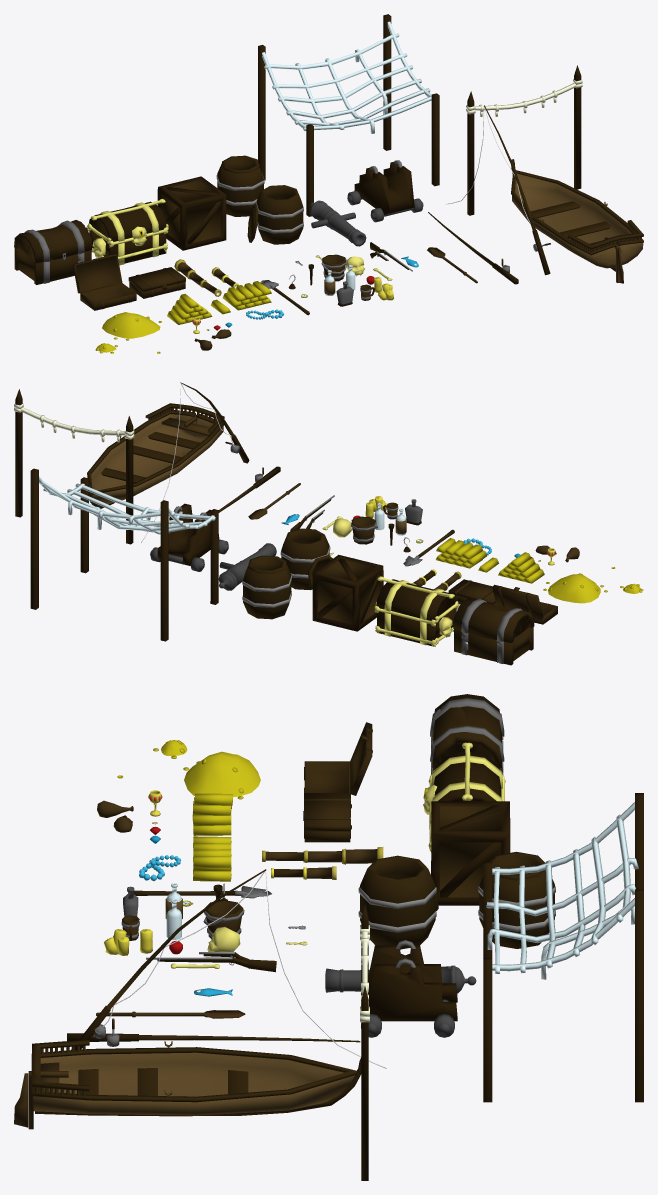
The picture shows the model from 3 angles, top to bottom: view 1: azimuth 30°, elevation 25°; view 2: azimuth 150°, elevation 25°; view 3: azimuth 270°, elevation 25°; orthographic projection. The views are drawn at different scales.
Visible parts, largest first — view 1: PIRATE_PACK-FishingStandNet, PIRATE_PACK-RowBoat, PIRATE_PACK-Create, PIRATE_PACK-Death_Chest-Closed, PIRATE_PACK-Chest-Closed, PIRATE_PACK-CannonStand, PIRATE_PACK-Barell_Open, PIRATE_PACK-FishingDry, PIRATE_PACK-SmallCreate-Open, PIRATE_PACK-Barell, PIRATE_PACK-SmallCreate-Closed, PIRATE_PACK-Cannon (+7 smaller); view 2: PIRATE_PACK-RowBoat, PIRATE_PACK-FishingStandNet, PIRATE_PACK-Create, PIRATE_PACK-Death_Chest-Closed, PIRATE_PACK-Chest-Closed, PIRATE_PACK-Barell, PIRATE_PACK-FishingDry, PIRATE_PACK-Barell_Open, PIRATE_PACK-CannonStand, PIRATE_PACK-SmallCreate-Open, PIRATE_PACK-CoinPile_Large, PIRATE_PACK-GoldBar_Wall (+6 smaller); view 3: PIRATE_PACK-RowBoat, PIRATE_PACK-FishingStandNet, PIRATE_PACK-Create, PIRATE_PACK-CannonStand, PIRATE_PACK-Barell_Open, PIRATE_PACK-Chest-Closed, PIRATE_PACK-Barell, PIRATE_PACK-Death_Chest-Closed, PIRATE_PACK-CoinPile_Large, PIRATE_PACK-SmallCreate-Open, PIRATE_PACK-SmallCreate-Closed, PIRATE_PACK-FishingDry (+11 smaller).
Part boxes in pixels (left/top/right/bottom): PIRATE_PACK-FishingStandNet: left=258, top=14, right=439, bottom=216; PIRATE_PACK-RowBoat: left=511, top=159, right=643, bottom=283; PIRATE_PACK-Create: left=157, top=176, right=226, bottom=250; PIRATE_PACK-Death_Chest-Closed: left=87, top=198, right=168, bottom=265; PIRATE_PACK-Chest-Closed: left=14, top=220, right=92, bottom=284; PIRATE_PACK-CannonStand: left=347, top=160, right=423, bottom=222; PIRATE_PACK-Barell_Open: left=247, top=185, right=303, bottom=244; PIRATE_PACK-FishingDry: left=466, top=65, right=582, bottom=215; PIRATE_PACK-SmallCreate-Open: left=73, top=254, right=136, bottom=310; PIRATE_PACK-Barell: left=216, top=155, right=264, bottom=216; PIRATE_PACK-SmallCreate-Closed: left=128, top=267, right=185, bottom=298; PIRATE_PACK-Cannon: left=310, top=200, right=366, bottom=246; PIRATE_PACK-RowBoat: left=87, top=403, right=224, bottom=508; PIRATE_PACK-FishingStandNet: left=30, top=468, right=218, bottom=641; PIRATE_PACK-Create: left=312, top=554, right=383, bottom=631; PIRATE_PACK-Death_Chest-Closed: left=374, top=576, right=458, bottom=646; PIRATE_PACK-Chest-Closed: left=453, top=598, right=534, bottom=665; PIRATE_PACK-Barell: left=242, top=555, right=291, bottom=619; PIRATE_PACK-FishingDry: left=14, top=389, right=134, bottom=544; PIRATE_PACK-Barell_Open: left=280, top=528, right=332, bottom=590; PIRATE_PACK-CannonStand: left=150, top=503, right=228, bottom=571; PIRATE_PACK-SmallCreate-Open: left=492, top=584, right=557, bottom=624; PIRATE_PACK-CoinPile_Large: left=543, top=573, right=607, bottom=603; PIRATE_PACK-GoldBar_Wall: left=435, top=538, right=486, bottom=568; PIRATE_PACK-RowBoat: left=14, top=1039, right=361, bottom=1129; PIRATE_PACK-FishingStandNet: left=483, top=793, right=643, bottom=1102; PIRATE_PACK-Create: left=431, top=801, right=510, bottom=905; PIRATE_PACK-CannonStand: left=361, top=940, right=457, bottom=1037; PIRATE_PACK-Barell_Open: left=358, top=855, right=438, bottom=949; PIRATE_PACK-Chest-Closed: left=430, top=694, right=504, bottom=774; PIRATE_PACK-Barell: left=478, top=851, right=555, bottom=948; PIRATE_PACK-Death_Chest-Closed: left=423, top=742, right=505, bottom=852; PIRATE_PACK-CoinPile_Large: left=183, top=751, right=260, bottom=799; PIRATE_PACK-SmallCreate-Open: left=304, top=722, right=372, bottom=797; PIRATE_PACK-SmallCreate-Closed: left=303, top=793, right=351, bottom=842; PIRATE_PACK-FishingDry: left=360, top=904, right=369, bottom=1180.
Size of the model in its own units: 13.04 by 3.12 by 8.31.
Materials: 1 (1 with a texture image).
